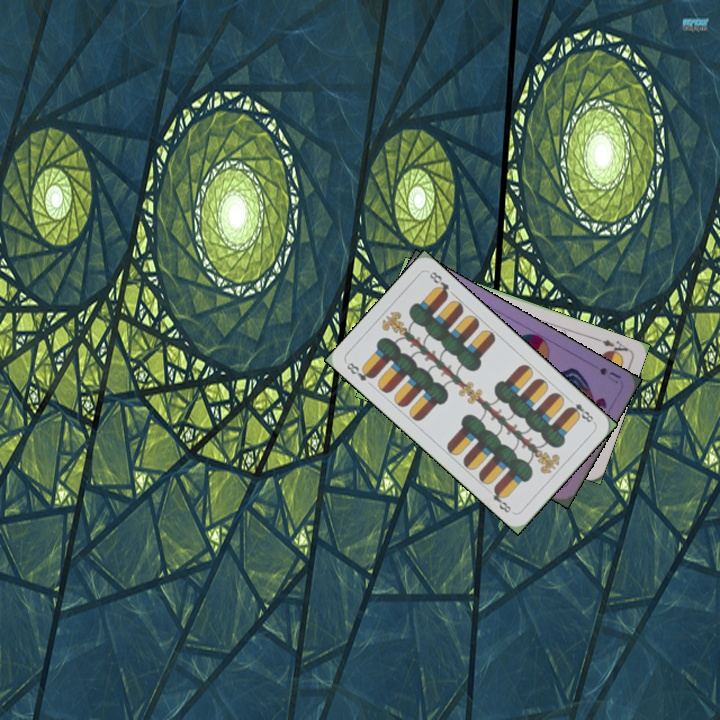E8: (564, 399, 597, 426), (343, 358, 377, 384)
EA: (592, 334, 631, 359)
SU: (595, 363, 623, 386)
